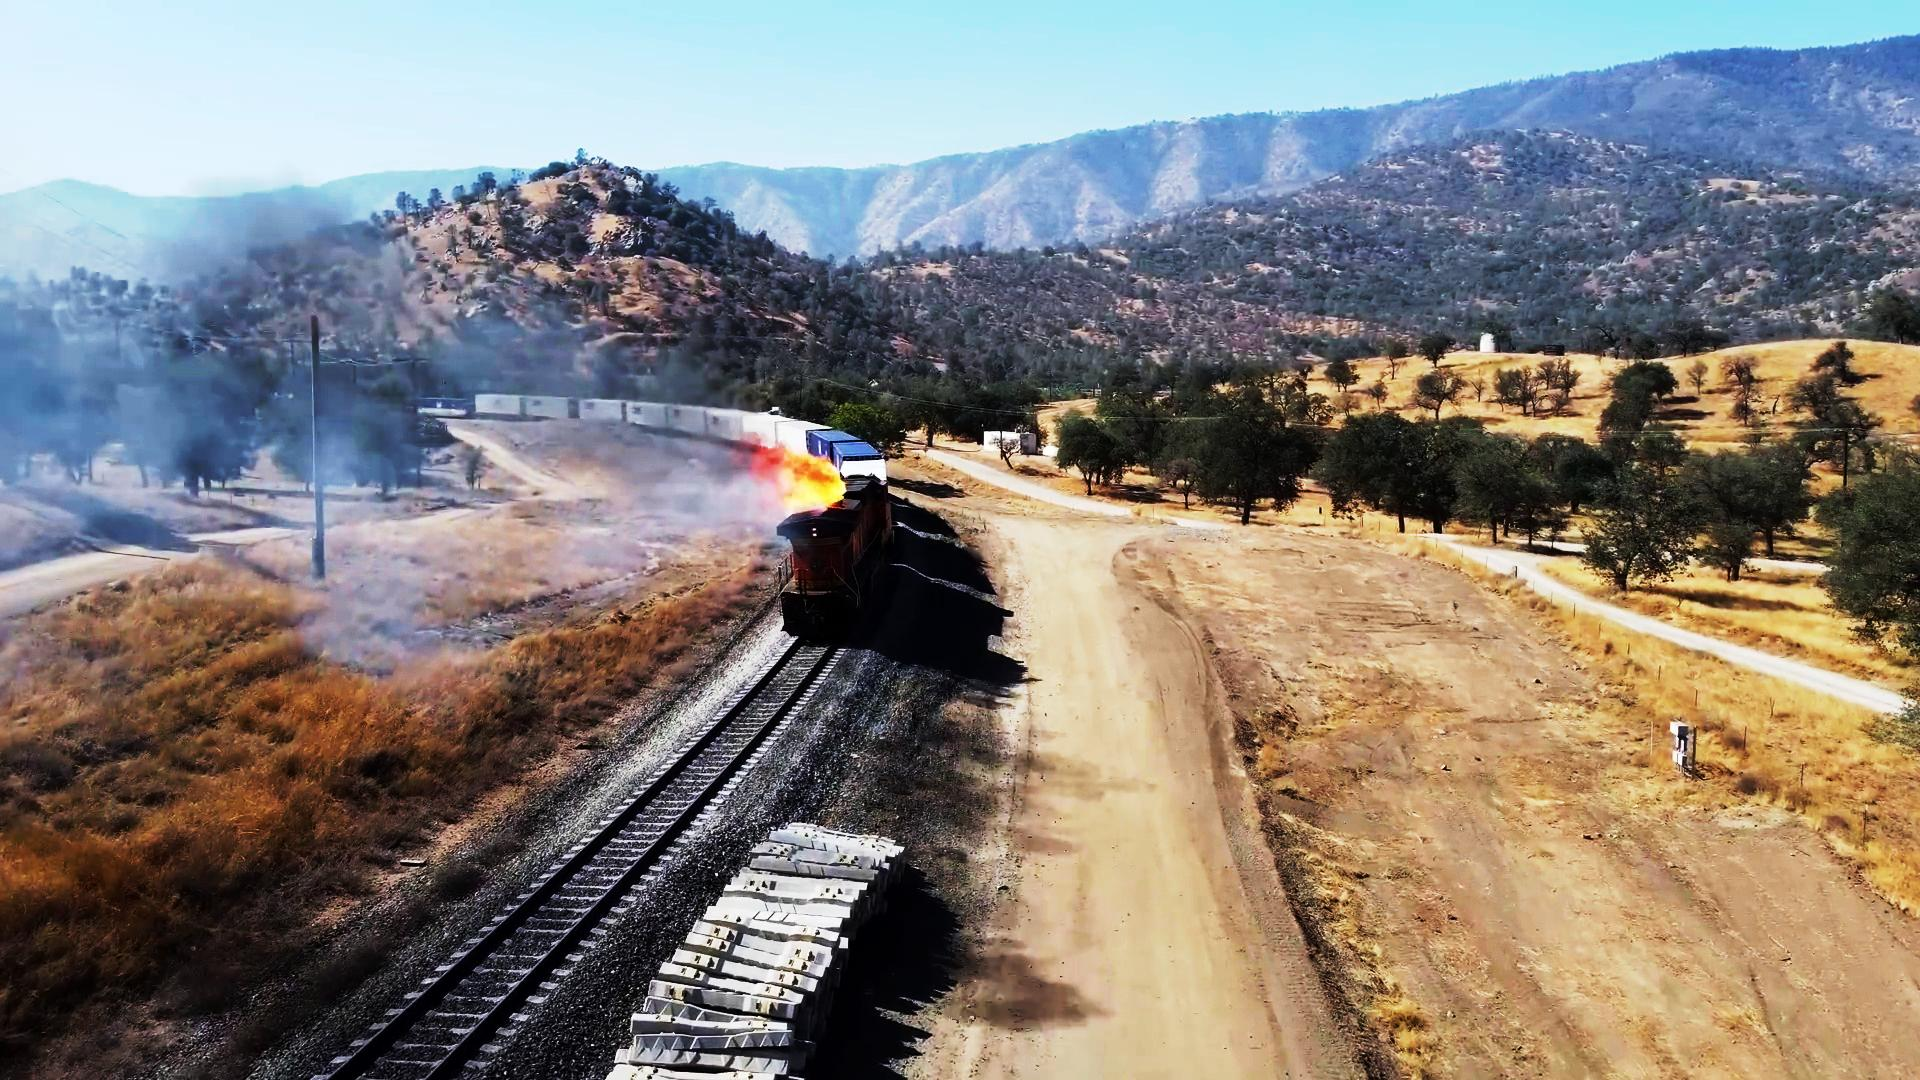fire: (754, 436, 867, 530)
